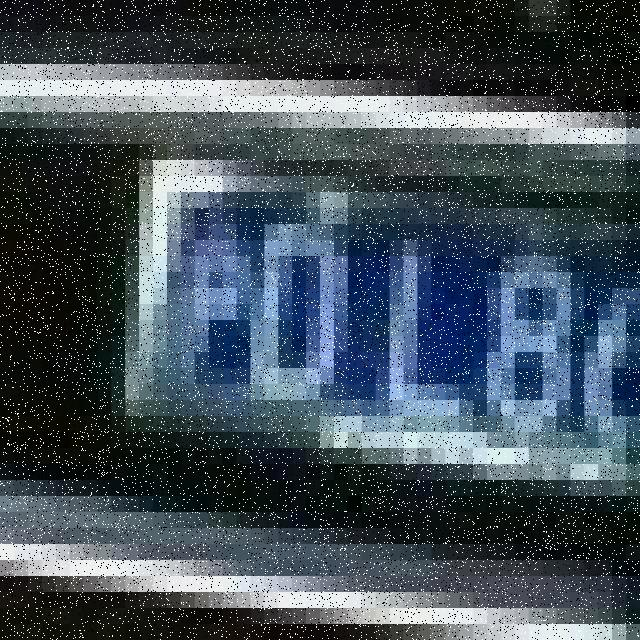licenseplate: (99, 118, 640, 528)
